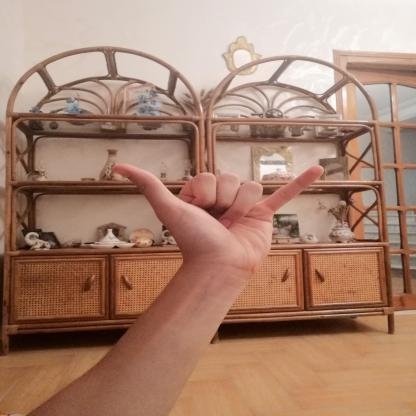YA: (94, 145, 335, 280)
